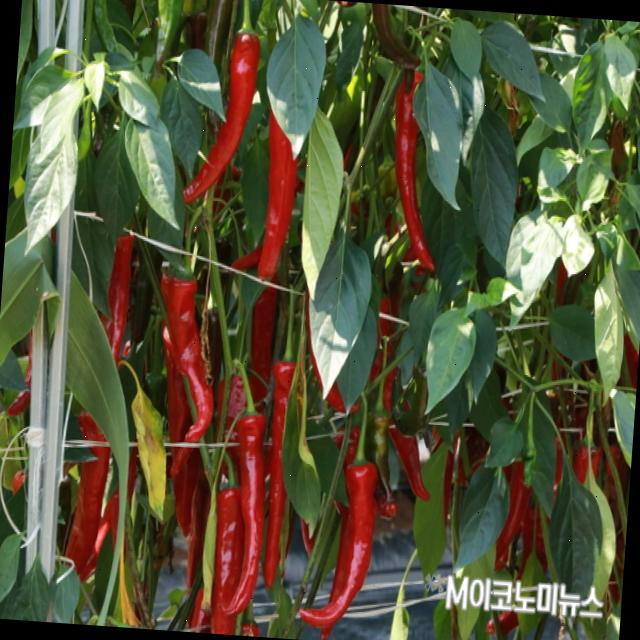chili: (183, 31, 260, 202), (299, 463, 378, 626), (160, 274, 214, 441), (224, 414, 265, 613), (394, 72, 434, 269), (262, 361, 296, 587), (257, 110, 297, 278), (64, 447, 109, 574), (210, 487, 244, 634), (100, 234, 134, 360), (495, 461, 531, 569), (389, 425, 428, 500), (79, 413, 102, 440), (170, 448, 186, 475)
